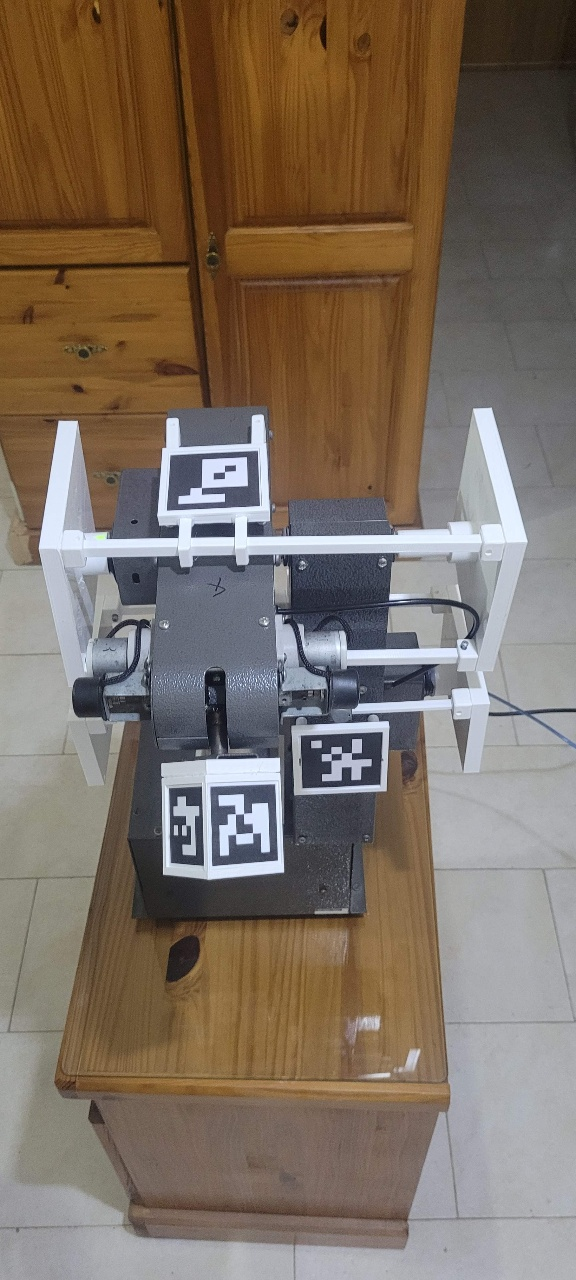Robot: (33, 266, 521, 903)
